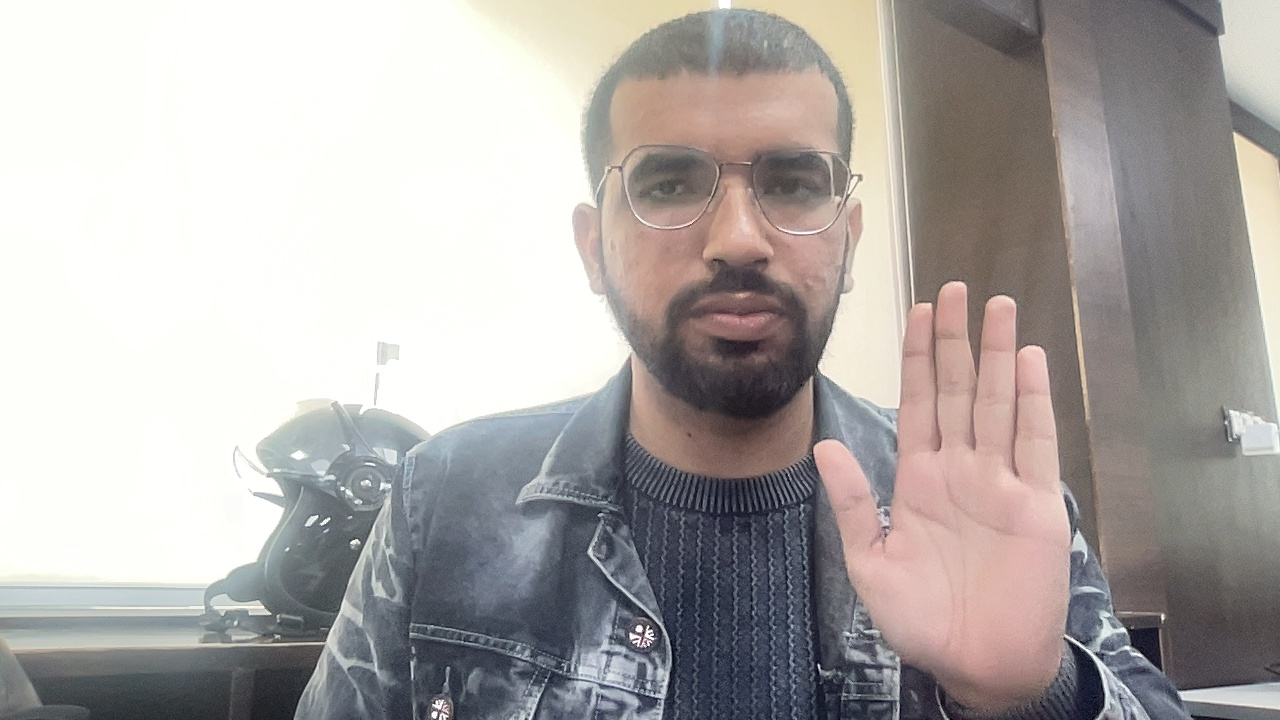Hello: (792, 256, 1120, 710)
